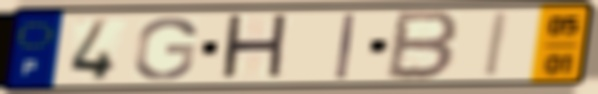4: (66, 15, 123, 83)
B: (382, 9, 464, 83)
G: (130, 15, 201, 82)
H: (217, 11, 292, 84)
I: (481, 10, 513, 79), (333, 12, 360, 82)
